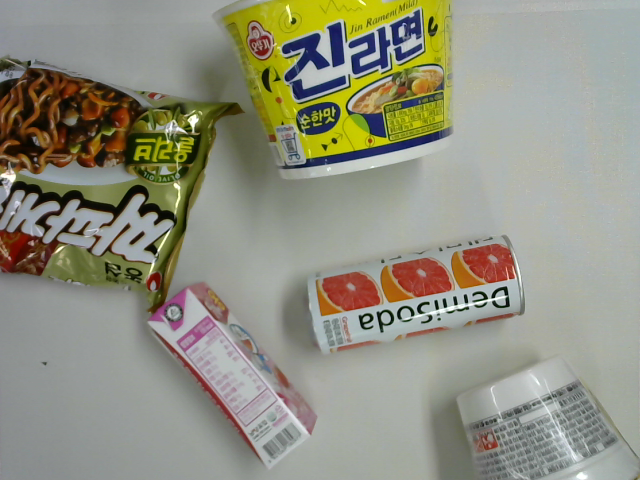Demisoda_Grapefruit_Can_250ml: (302, 229, 529, 362)
Hejangmini: (451, 355, 639, 480)
Jinlamyeon_Mild_Taste_Large_Cup: (212, 1, 456, 184)
Olive_Chapaghetti: (1, 50, 248, 318)
Strawberry_E_Mong: (143, 277, 319, 473)
